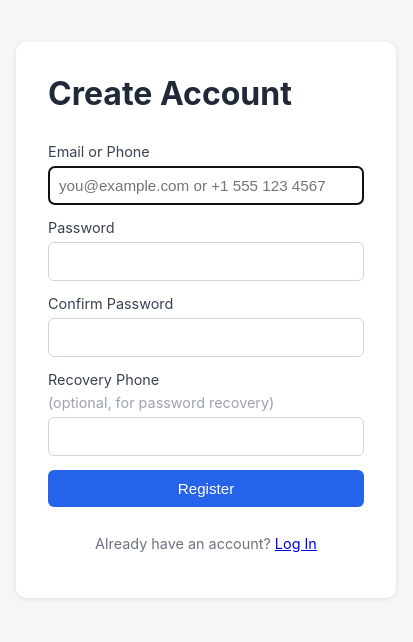
Test case: RegisterPage › blocks submission when passwords do not match
Step 1. Type "jane@example.com" into the field labelled "Email or Phone" → (206, 185), box x1=48 y1=166 x2=364 y2=205
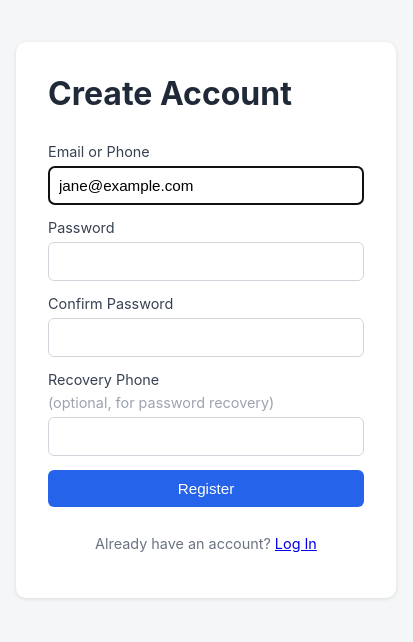
Step 2. Type "password123" into the password field labelled "Password" → (206, 261), box x1=48 y1=242 x2=364 y2=281
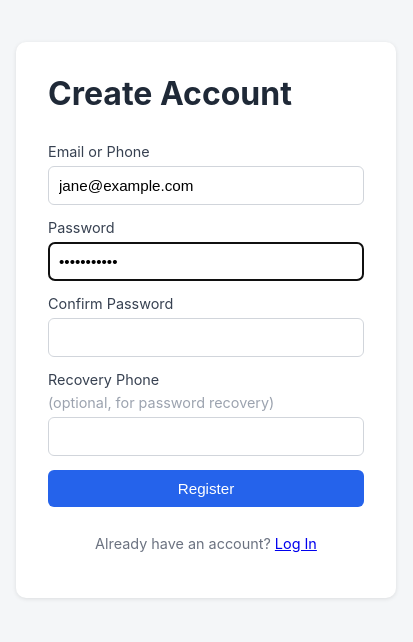
Step 3. Type "different" into the password field labelled "Confirm Password" → (206, 337), box x1=48 y1=318 x2=364 y2=357
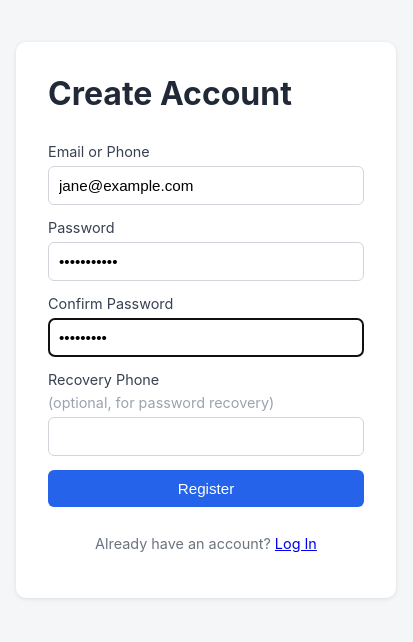
Step 4. Click the button "Register" → (206, 488), box x1=48 y1=470 x2=364 y2=507
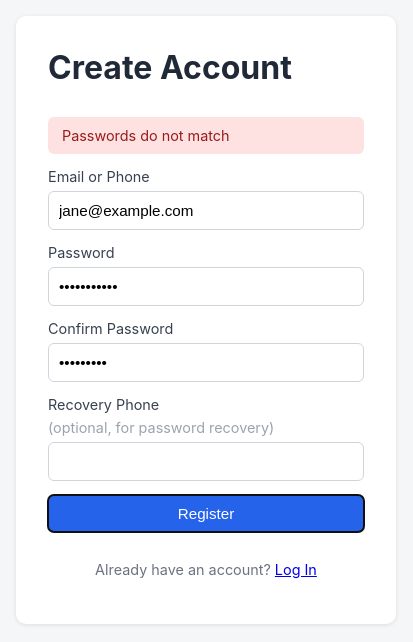
Now the text "Passwords do not match" is shown, box x1=48 y1=117 x2=364 y2=154
